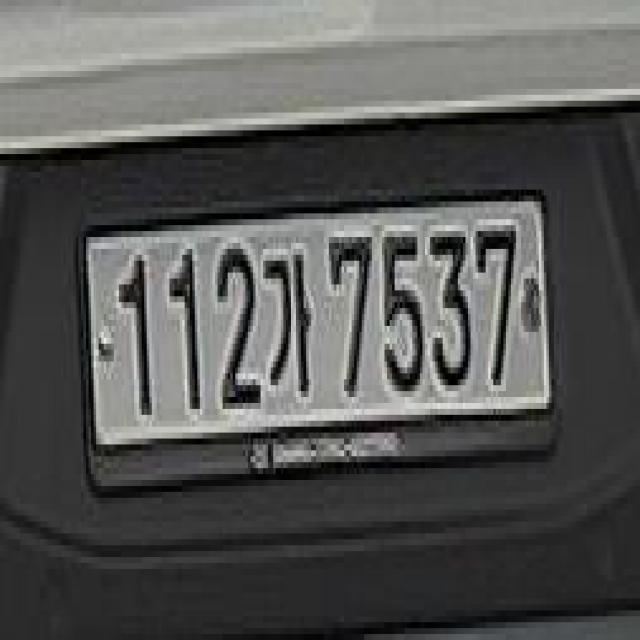illegal_plate: (76, 183, 552, 492)
